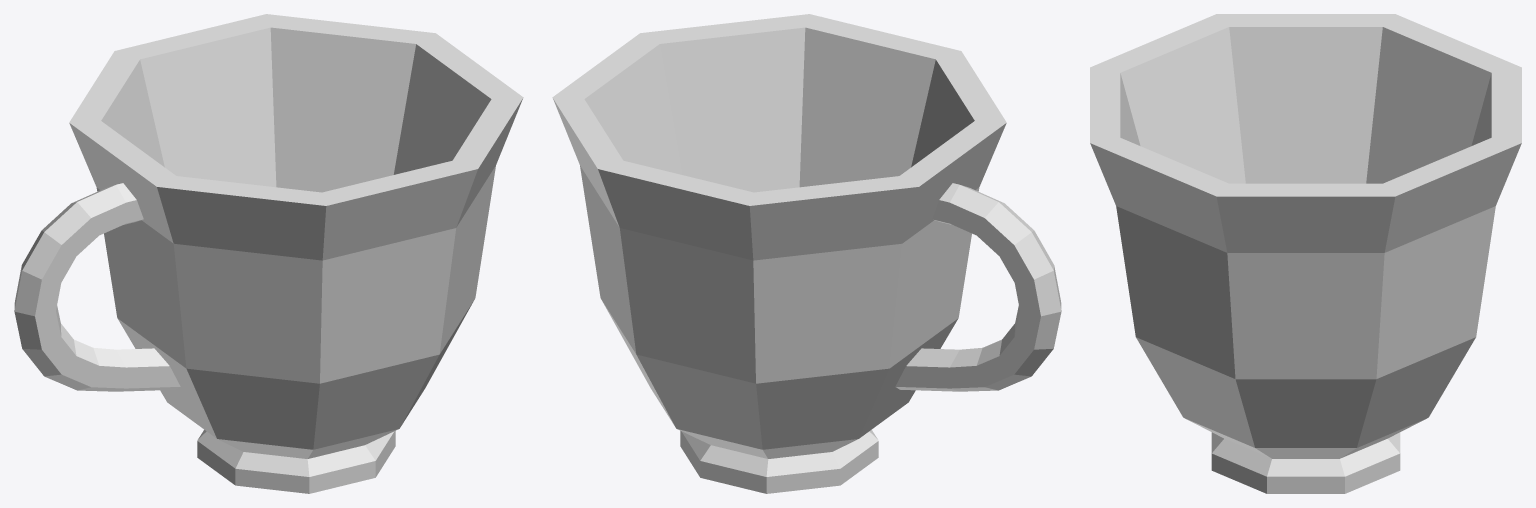
Rendered from Cup1_C1.fbx.
3 renders of one model, left to right at view 1: azimuth 30°, elevation 25°; view 2: azimuth 150°, elevation 25°; view 3: azimuth 270°, elevation 25°, orthographic.
Visible parts, largest first — view 1: Cup1_C1; view 2: Cup1_C1; view 3: Cup1_C1.
Part boxes in pixels (x1,y1,x2,y2): Cup1_C1: (14,14,523,493); Cup1_C1: (552,14,1061,493); Cup1_C1: (1090,14,1521,493).
Size of the model in its own units: 14.44 by 10.14 by 11.38.
